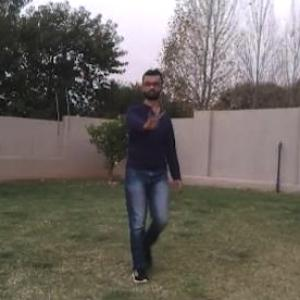takeoff-hand: (138, 104, 167, 134)
